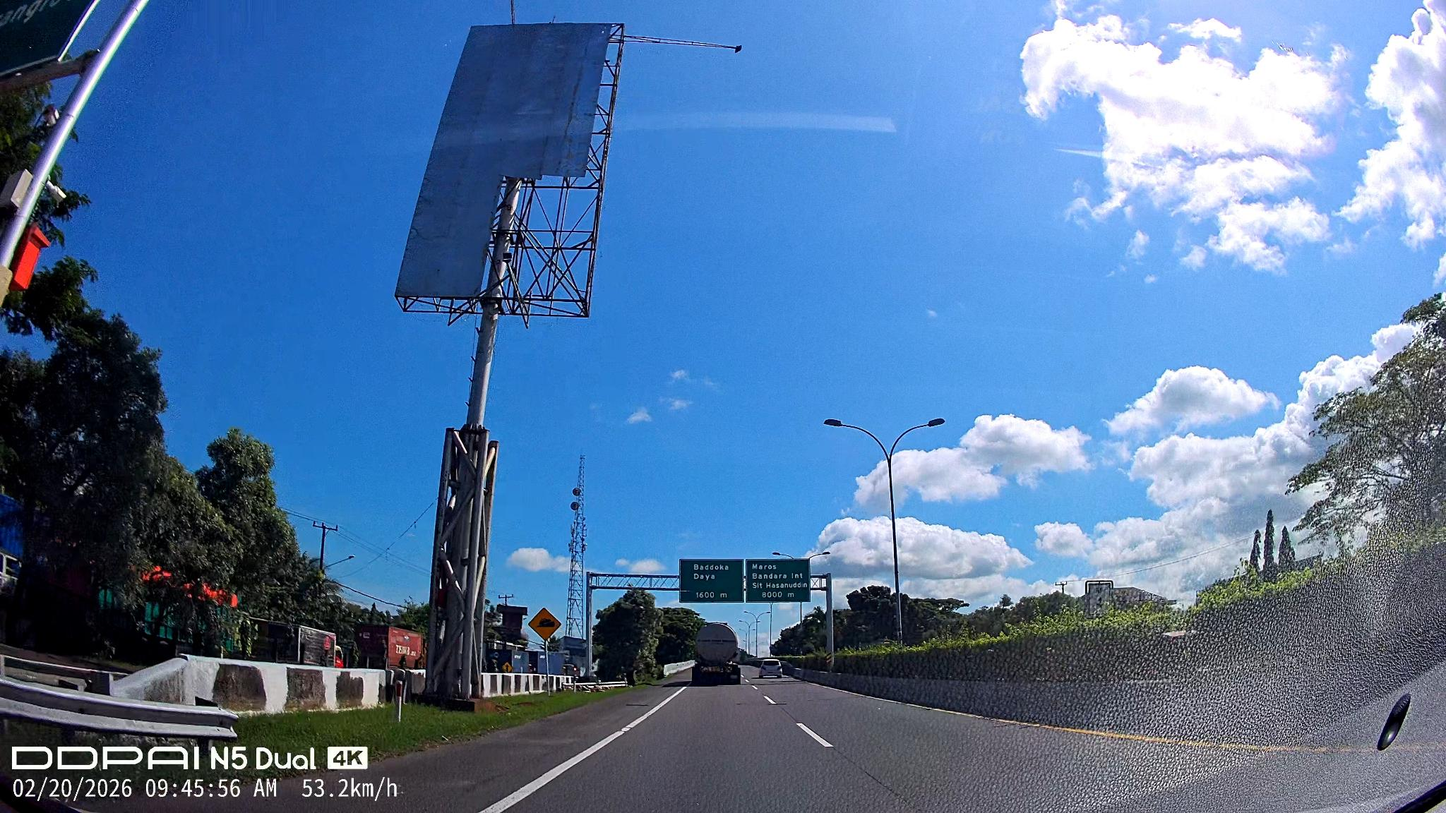rambu_teks: (745, 558, 811, 603), (679, 559, 744, 604)
